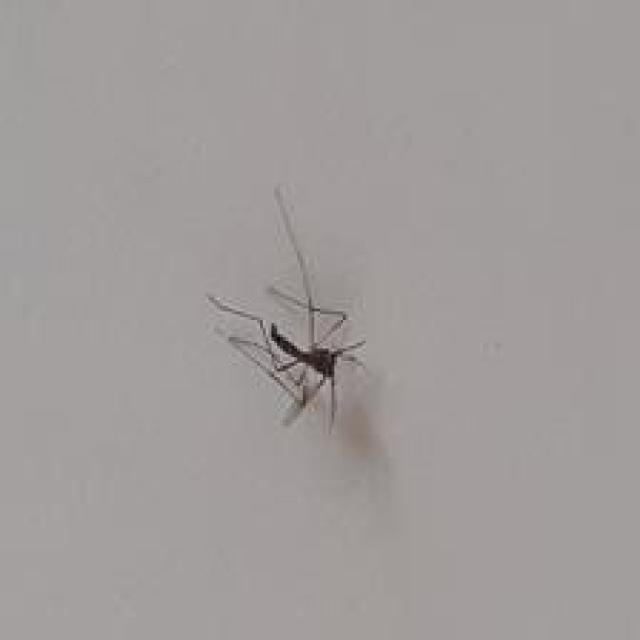Aedes albopictus: (205, 183, 368, 434)
